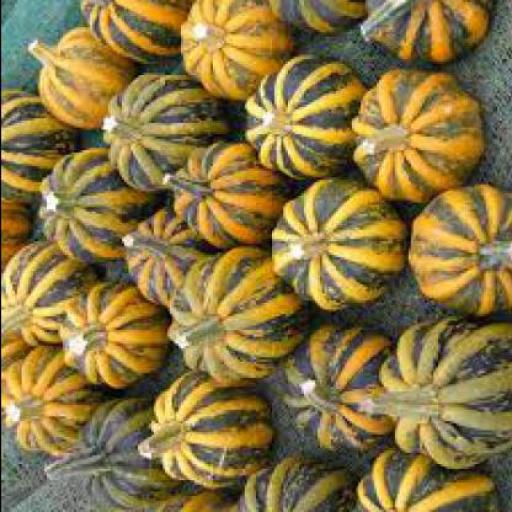biodegradable: (357, 318, 509, 473), (162, 246, 304, 387), (266, 180, 400, 314), (346, 73, 482, 203), (236, 54, 362, 185), (40, 400, 184, 511), (134, 373, 266, 493), (96, 75, 230, 193), (278, 326, 392, 457), (402, 184, 510, 318), (36, 146, 154, 264), (162, 144, 282, 252), (55, 282, 162, 394), (21, 27, 132, 134), (1, 348, 105, 458), (173, 2, 286, 103), (2, 242, 96, 348), (116, 205, 209, 307), (355, 2, 492, 66), (347, 453, 496, 511), (1, 92, 75, 206), (75, 2, 188, 66), (234, 459, 358, 511), (262, 2, 360, 36), (148, 480, 235, 511), (1, 197, 30, 278)
